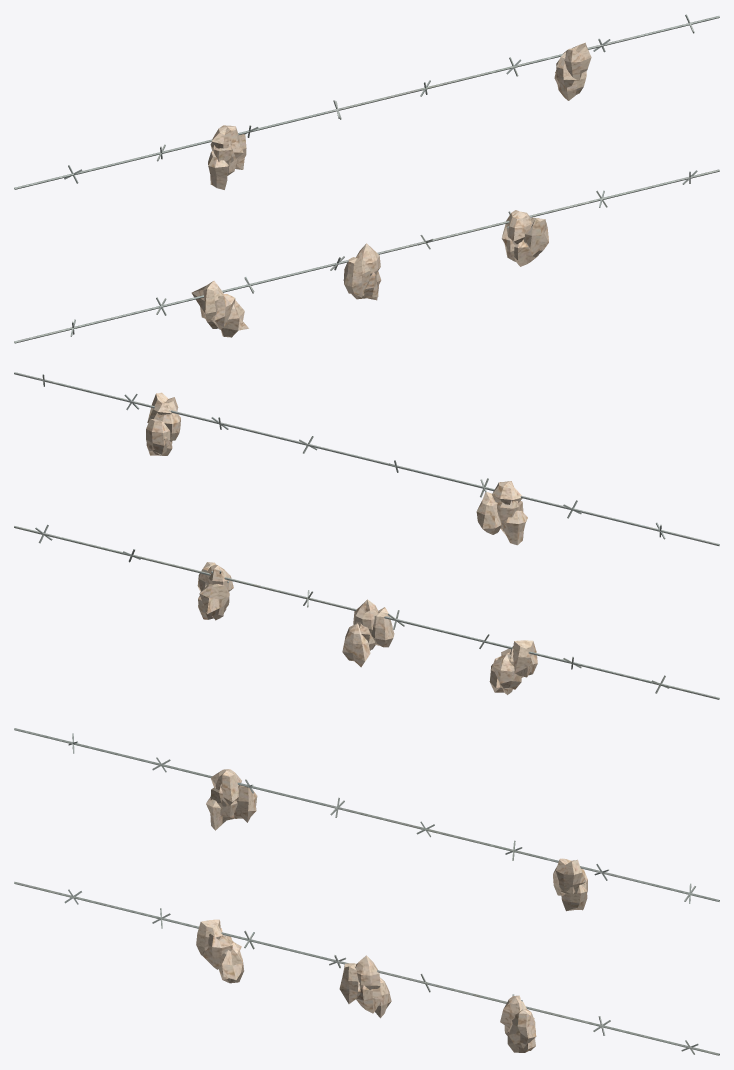
The model's file is wool_on_wire_b.glb.
3 views of the same model, one above another, from view 1: azimuth 30°, elevation 25°; view 2: azimuth 150°, elevation 25°; view 3: azimuth 330°, elevation 25° (orthographic).
Visible parts, largest first — view 1: wool_on_wire_b_LOD0; view 2: wool_on_wire_b_LOD0; view 3: wool_on_wire_b_LOD0.
Part boxes in pixels (x1,y1,x2,y2): wool_on_wire_b_LOD0: (14, 14, 719, 343); wool_on_wire_b_LOD0: (14, 372, 719, 699); wool_on_wire_b_LOD0: (14, 728, 719, 1055).
Bounding box in the file's own units: 1.2 × 0.3459 × 0.0719.
2 materials, 2 textured.
